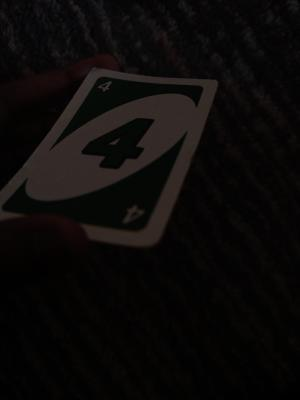num_4: (121, 203, 148, 228), (90, 77, 116, 98)
